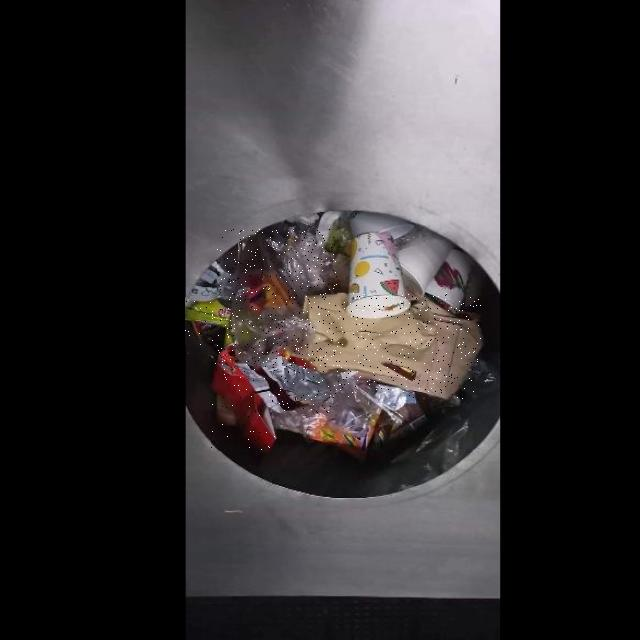paper: (303, 293, 482, 398)
plastic: (217, 229, 337, 365)
wrapper: (212, 342, 277, 450), (234, 346, 331, 413), (186, 297, 232, 344)
